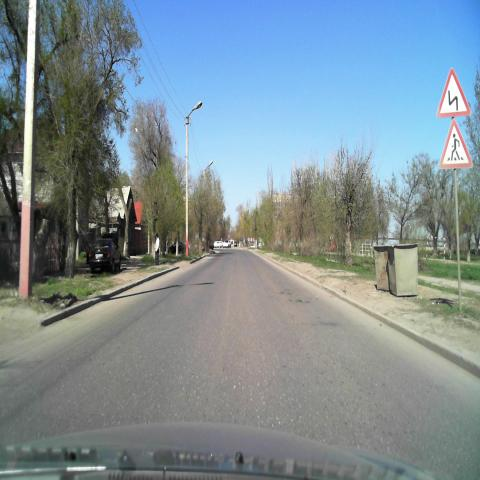1_12_2: (437, 66, 470, 120)
